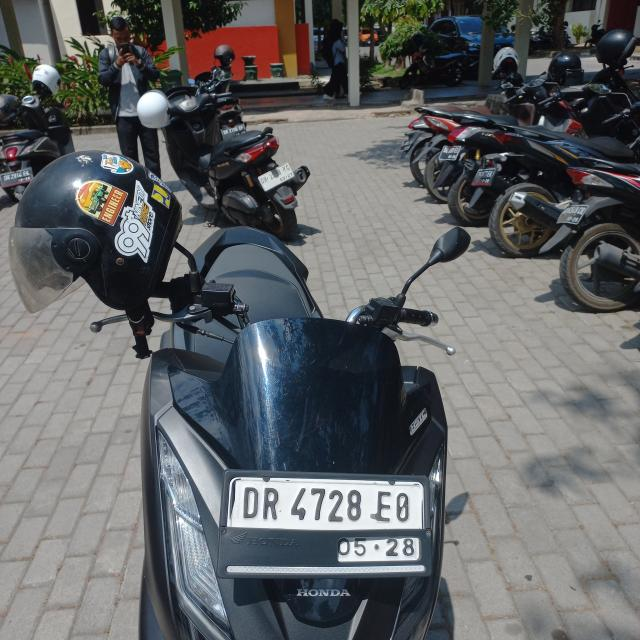plate: (232, 476, 426, 568)
